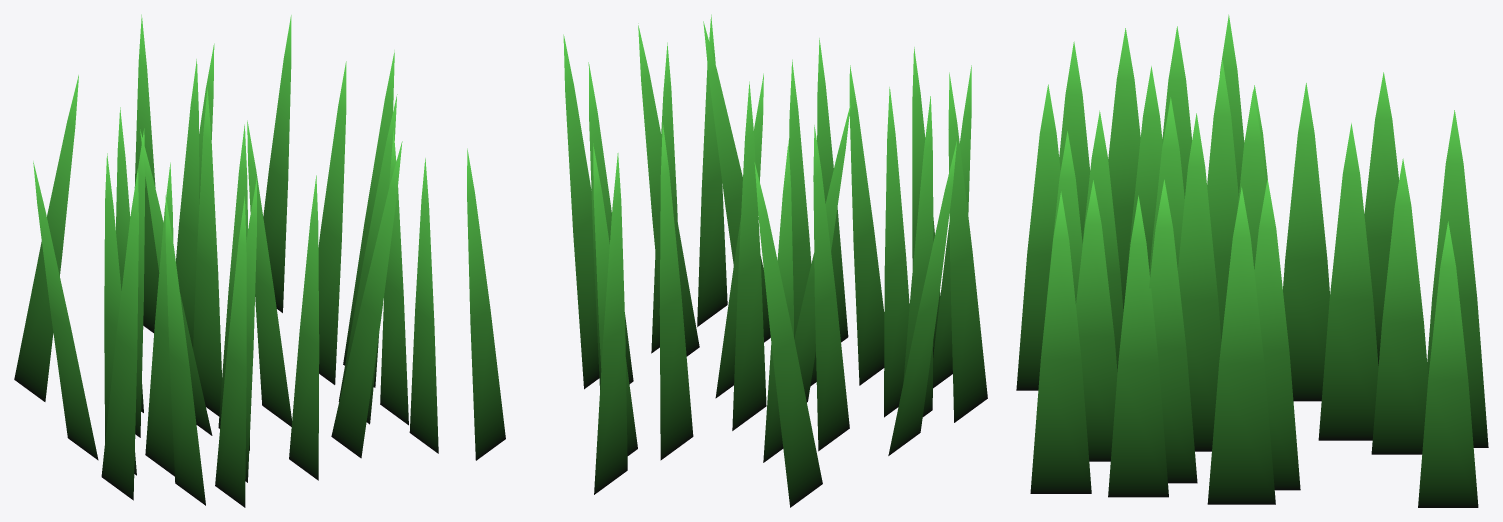
Rendered from nEWgRASS.fbx.
3 views of the same model, side by side, from view 1: azimuth 30°, elevation 25°; view 2: azimuth 150°, elevation 25°; view 3: azimuth 270°, elevation 25° (orthographic). The views are drawn at different scales.
Visible parts, largest first — view 1: Plane.001; view 2: Plane.001; view 3: Plane.001.
Part boxes in pixels (x1,y1,x2,y2): Plane.001: [14, 14, 438, 507]; Plane.001: [467, 14, 987, 507]; Plane.001: [1016, 14, 1488, 507].
Bounding box in the file's own units: 199 × 166 × 209.
